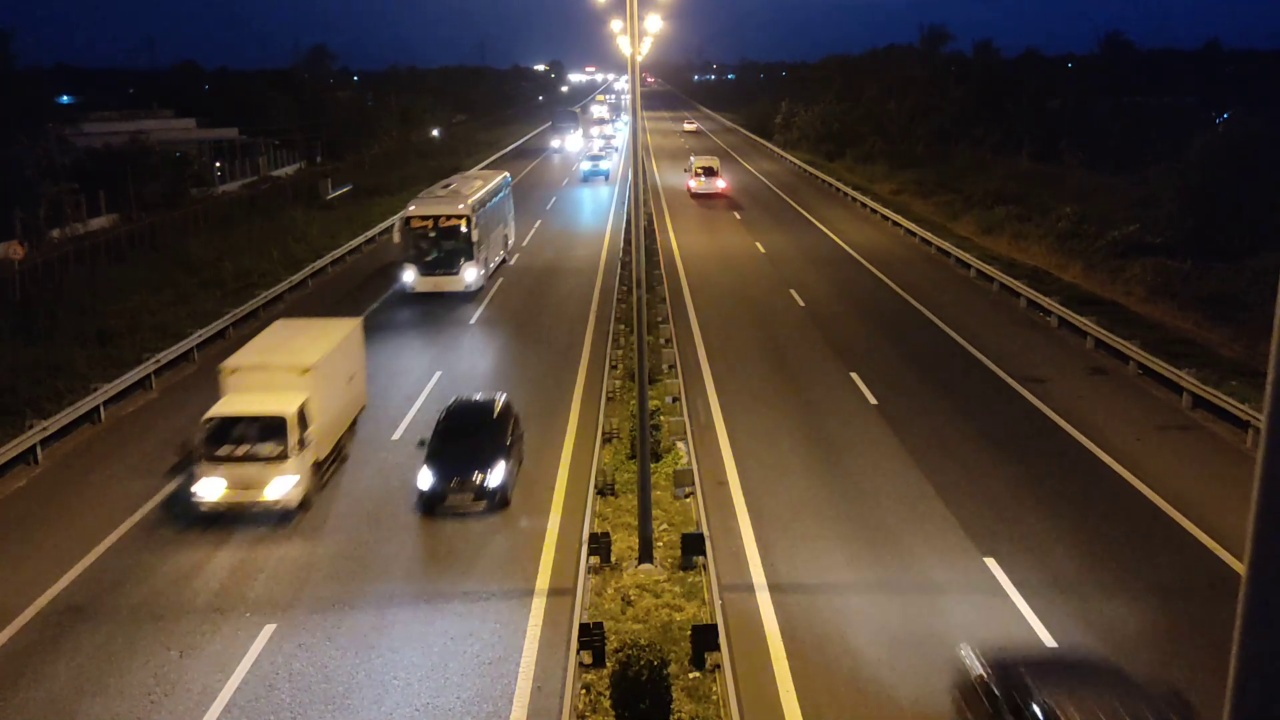bus: (399, 169, 516, 294)
car: (413, 390, 525, 516), (685, 154, 727, 195), (578, 153, 613, 183)
truck: (185, 315, 369, 521)
